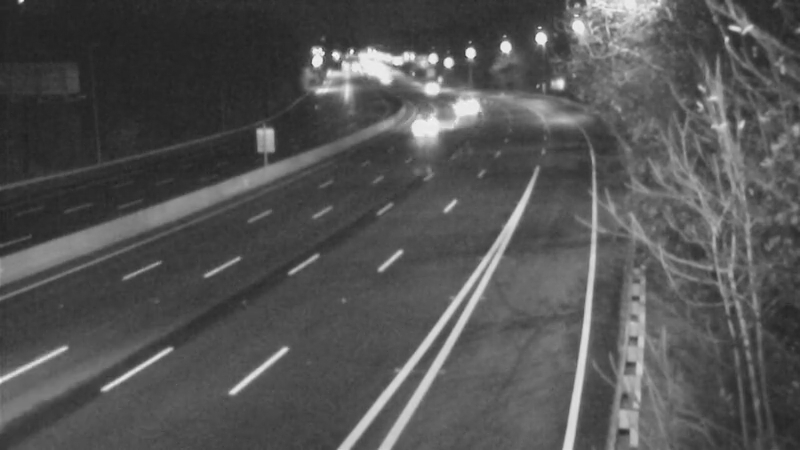vehicle: (403, 62, 453, 112), (436, 83, 486, 133), (402, 97, 452, 147)
